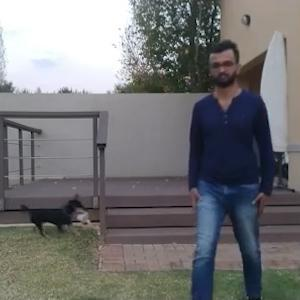follow: (174, 36, 272, 299)
